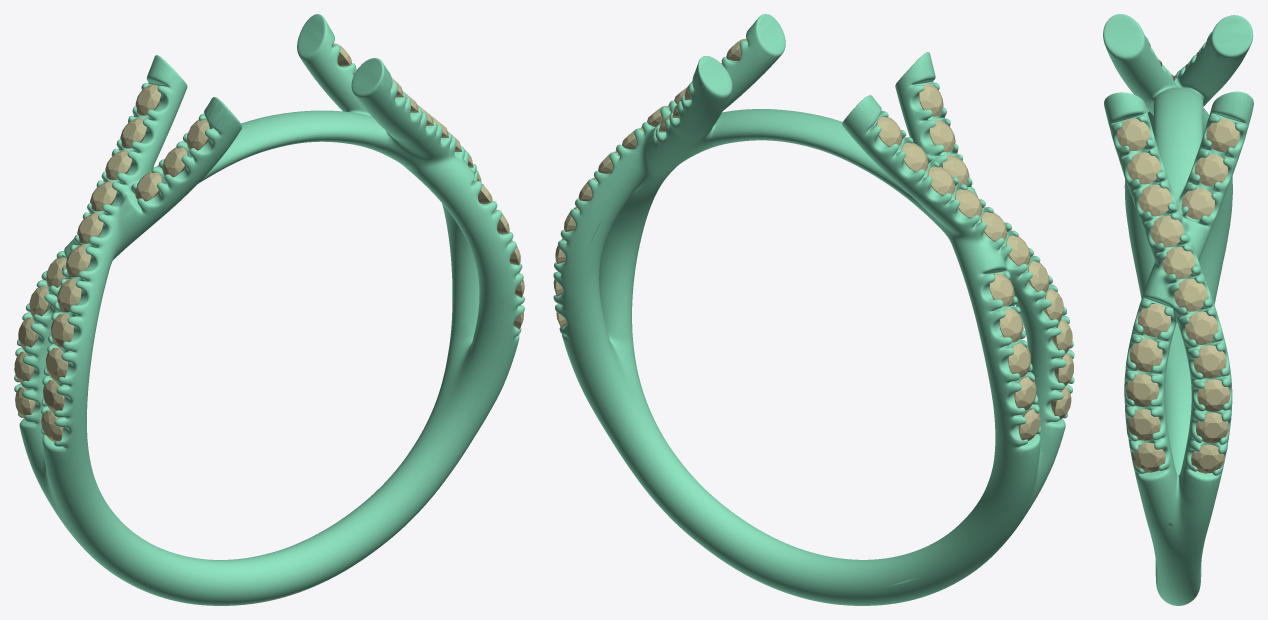
3 views of the same model, side by side, from view 1: azimuth 30°, elevation 25°; view 2: azimuth 150°, elevation 25°; view 3: azimuth 270°, elevation 25° (orthographic). The views are drawn at different scales.
Visible parts, largest first — view 1: Metal02; view 2: Metal02; view 3: Metal02, Diamond_Gem.004, Diamond_Gem.011, Diamond_Gem.015, Diamond_Gem.005, Diamond_Gem.003, Diamond_Gem.010, Diamond_Gem.009, Diamond_Gem.016, Diamond_Gem.012, Diamond_Gem.008, Diamond_Gem.006 (+8 smaller).
Boxes of the visible parts, x1,y1,x2,y2 form: Metal02: [14, 14, 524, 605]; Metal02: [553, 14, 1074, 605]; Metal02: [1103, 14, 1253, 605]; Diamond_Gem.004: [1185, 311, 1218, 344]; Diamond_Gem.011: [1206, 119, 1239, 151]; Diamond_Gem.015: [1129, 338, 1162, 371]; Diamond_Gem.005: [1174, 278, 1207, 311]; Diamond_Gem.003: [1193, 345, 1226, 378]; Diamond_Gem.010: [1117, 118, 1150, 150]; Diamond_Gem.009: [1127, 152, 1160, 184]; Diamond_Gem.016: [1126, 374, 1158, 406]; Diamond_Gem.012: [1194, 154, 1227, 186]; Diamond_Gem.008: [1138, 184, 1171, 216]; Diamond_Gem.006: [1162, 247, 1195, 279].
Size of the model in its own units: 21.06 by 22.76 by 5.88.
